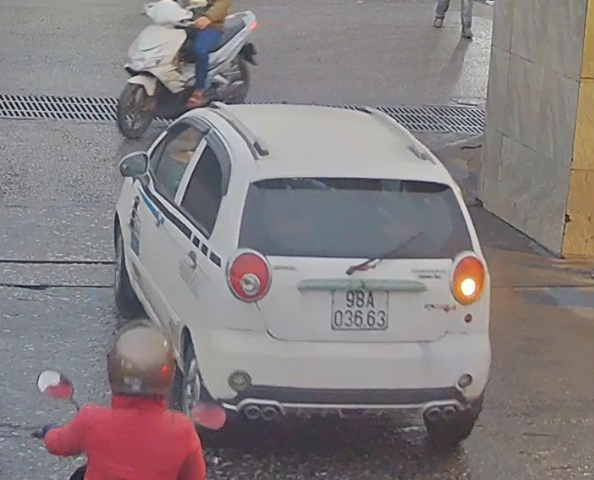vehicle plate: (326, 278, 398, 332)
